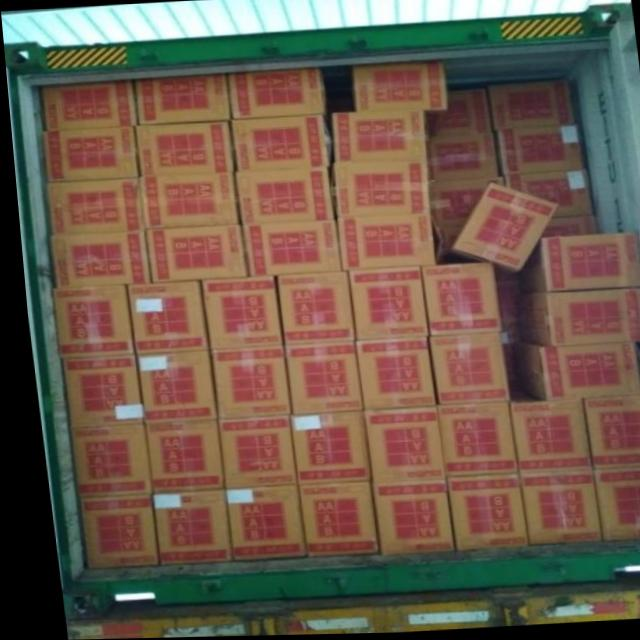box: (445, 184, 553, 276), (512, 233, 638, 296), (506, 343, 635, 403), (509, 289, 640, 347), (499, 390, 584, 475), (436, 474, 517, 553), (361, 478, 444, 555), (215, 485, 297, 561), (427, 402, 509, 477), (128, 350, 210, 425), (140, 224, 243, 283), (45, 285, 128, 358), (69, 494, 149, 569), (276, 341, 357, 415), (509, 472, 591, 545), (121, 281, 203, 354), (61, 425, 143, 498), (342, 267, 422, 341), (355, 408, 436, 481), (54, 355, 136, 427), (46, 229, 146, 288), (197, 276, 276, 350), (348, 338, 427, 412), (289, 483, 368, 557), (281, 412, 361, 485), (271, 273, 349, 347), (143, 491, 221, 565), (209, 416, 288, 489), (228, 116, 329, 173), (237, 220, 337, 277), (42, 177, 140, 235), (422, 334, 502, 405), (417, 266, 497, 337), (203, 347, 283, 418), (131, 121, 232, 177), (137, 421, 214, 494), (332, 215, 431, 271), (136, 174, 236, 229), (329, 161, 425, 218), (39, 126, 136, 182), (232, 169, 330, 224), (328, 109, 424, 164), (225, 69, 326, 121), (351, 62, 445, 117), (132, 73, 229, 126), (38, 80, 135, 130), (494, 125, 582, 178), (576, 398, 640, 470), (499, 171, 590, 220), (486, 81, 572, 132), (583, 468, 640, 543), (425, 179, 500, 227), (424, 135, 495, 183), (424, 89, 489, 138), (533, 217, 593, 240)
